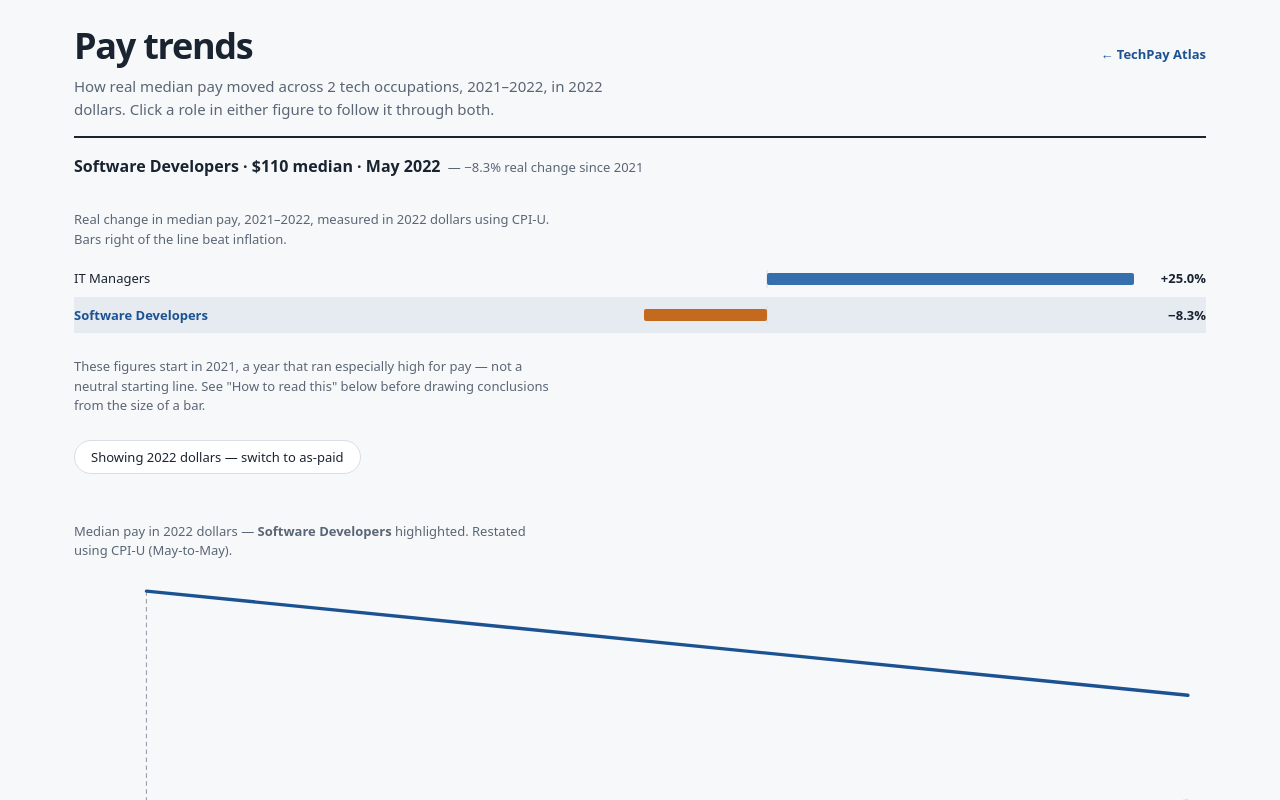
it: /trends page › states the CURRENT mode in the toggle label, not just aria-pressed
The width and height of the screenshot is (1280, 800).
Click the button "Showing 2022 dollars — switch to as-paid": (217, 457) [74, 440, 360, 474]
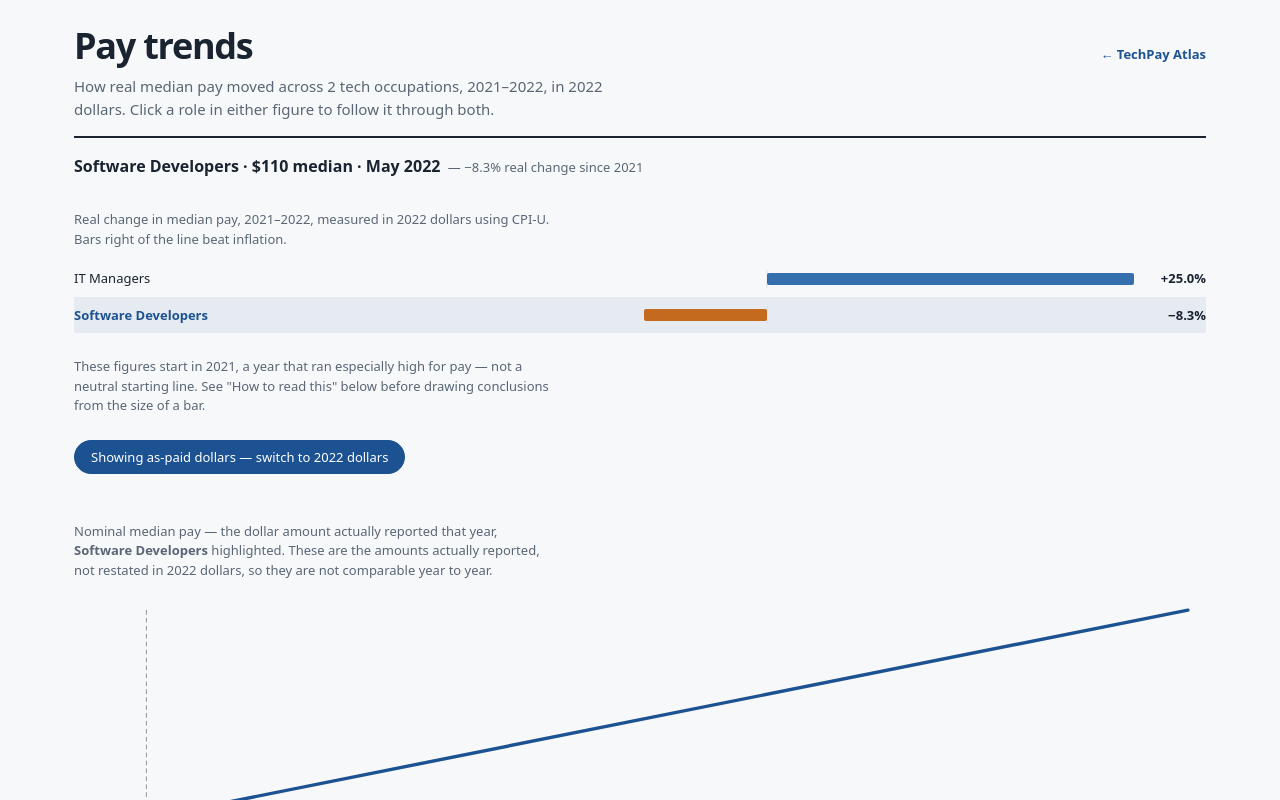
Check: the button "Showing as-paid dollars — switch to 2022 dollars" is shown, box [74, 440, 405, 474]
